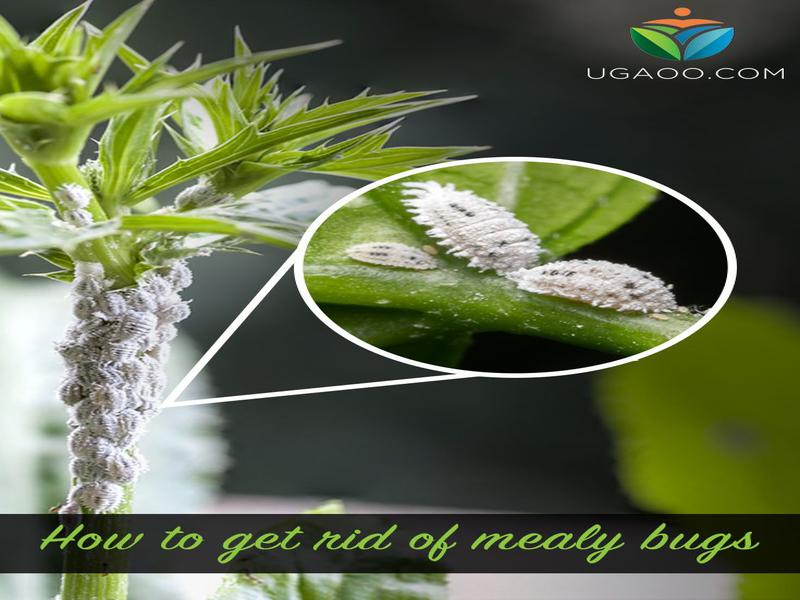Mealy_bug: (391, 165, 676, 331), (48, 257, 217, 516)
